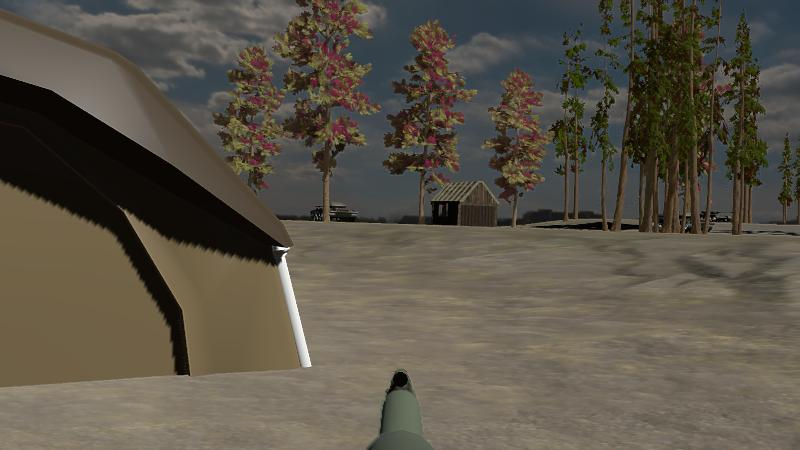House: (429, 179, 500, 228)
Tank: (309, 200, 359, 224)
